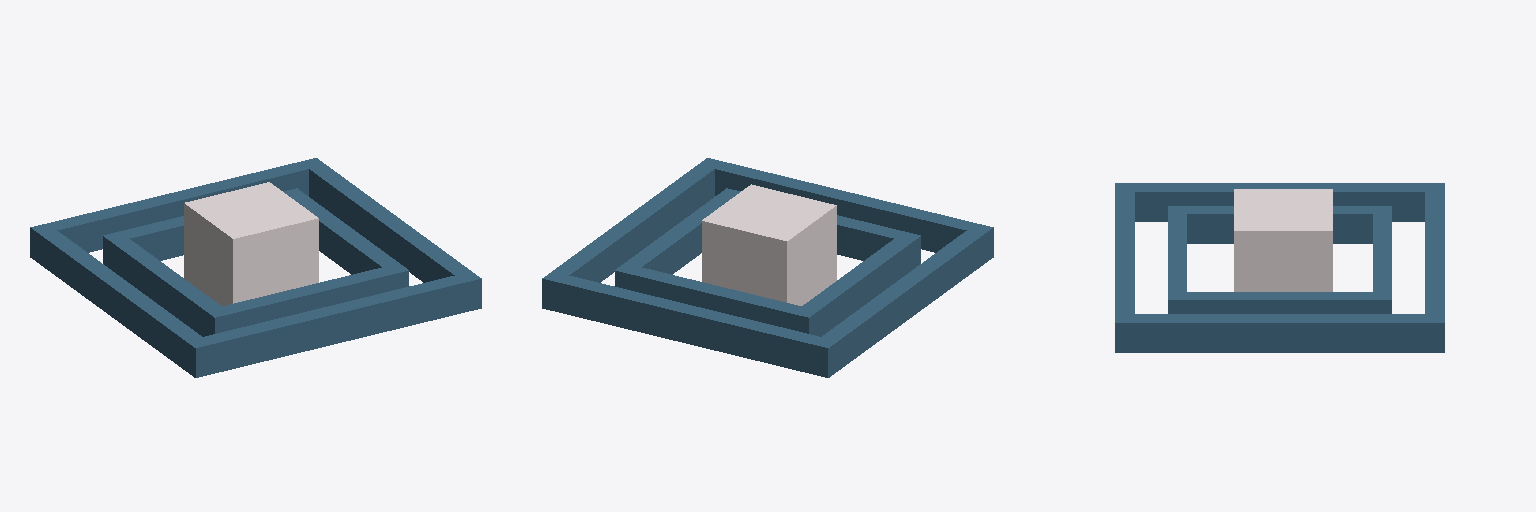
3 views of the same model, side by side, from view 1: azimuth 30°, elevation 25°; view 2: azimuth 150°, elevation 25°; view 3: azimuth 270°, elevation 25° (orthographic).
Bounding box in the file's own units: 50 × 15 × 50.
1 materials, 1 textured.